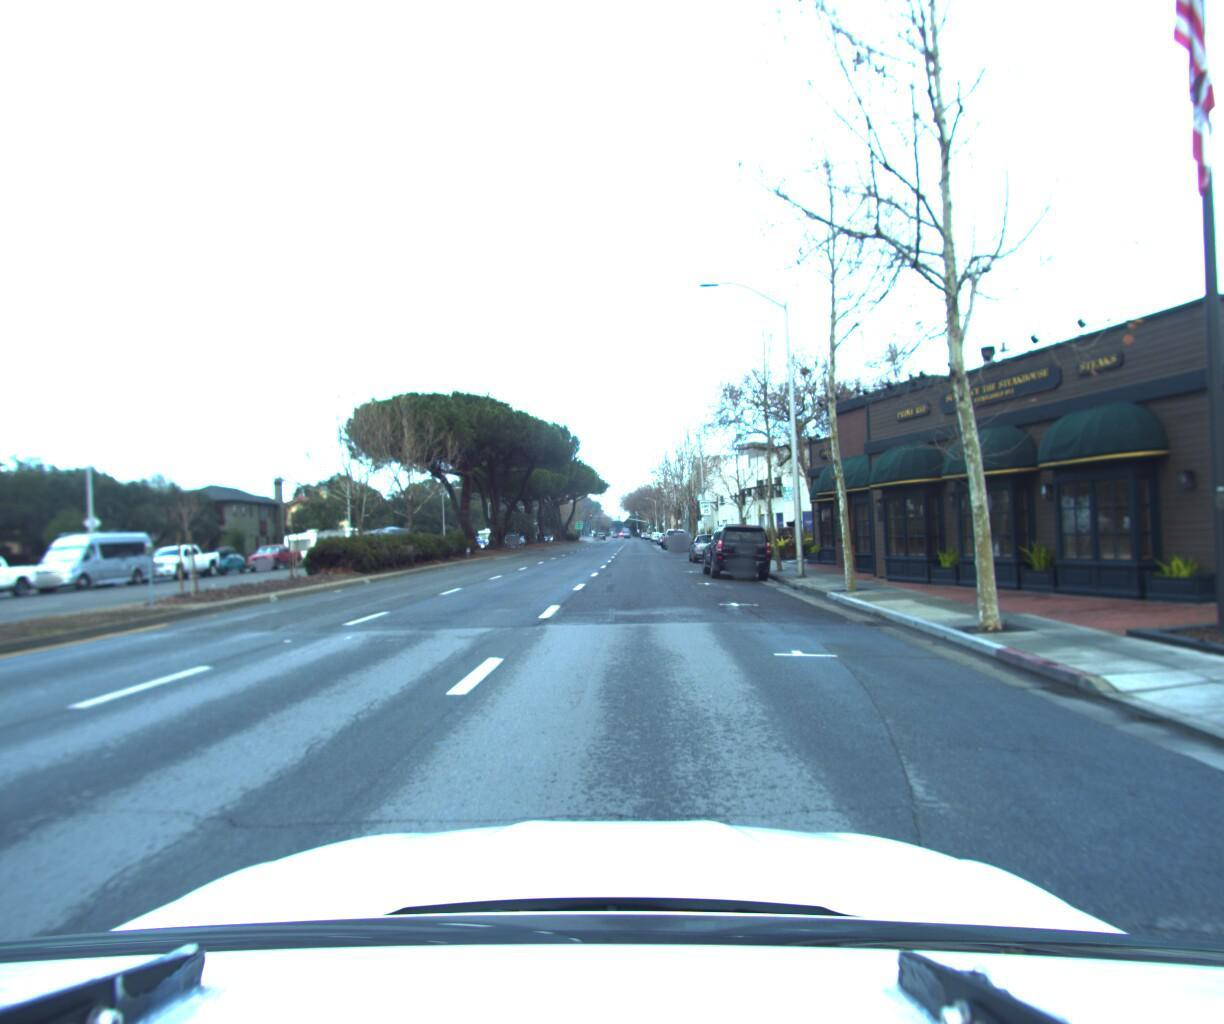car: (22, 525, 170, 596), (129, 542, 229, 584), (699, 518, 775, 573), (242, 541, 307, 573), (195, 544, 253, 575), (687, 527, 730, 559), (660, 522, 690, 546), (667, 526, 695, 548)
other_vehicle: (280, 523, 352, 566), (321, 523, 378, 563), (366, 521, 415, 557)
